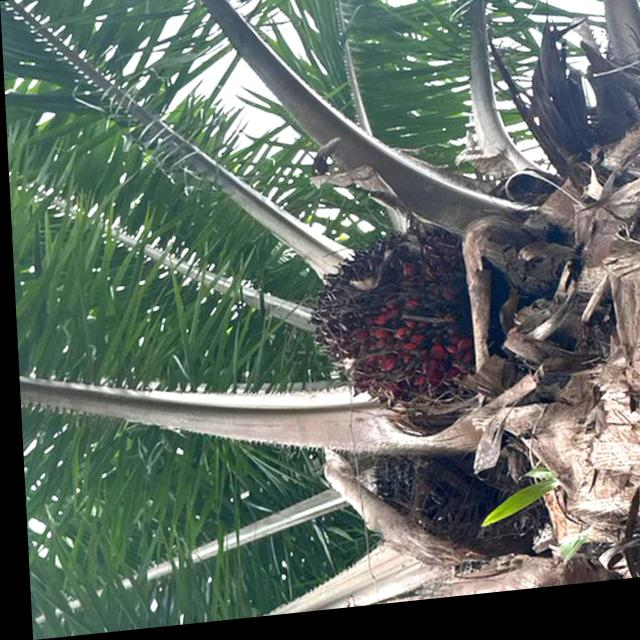ripe: (290, 220, 488, 444)
